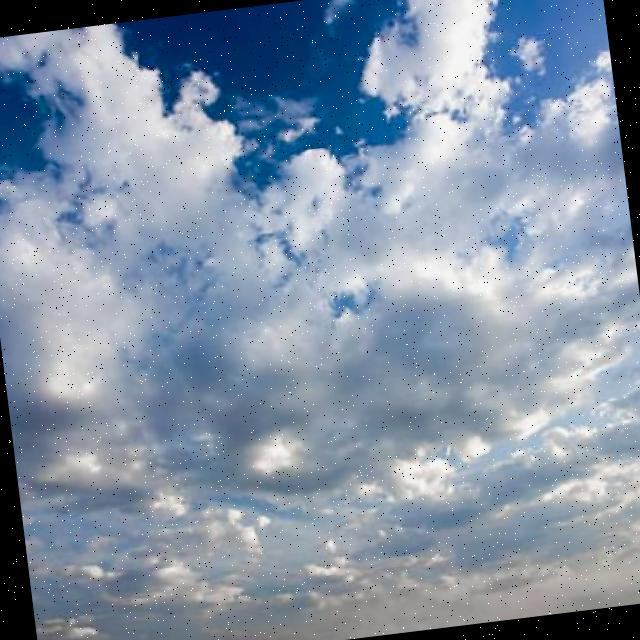Cs: (1, 36, 640, 593)
